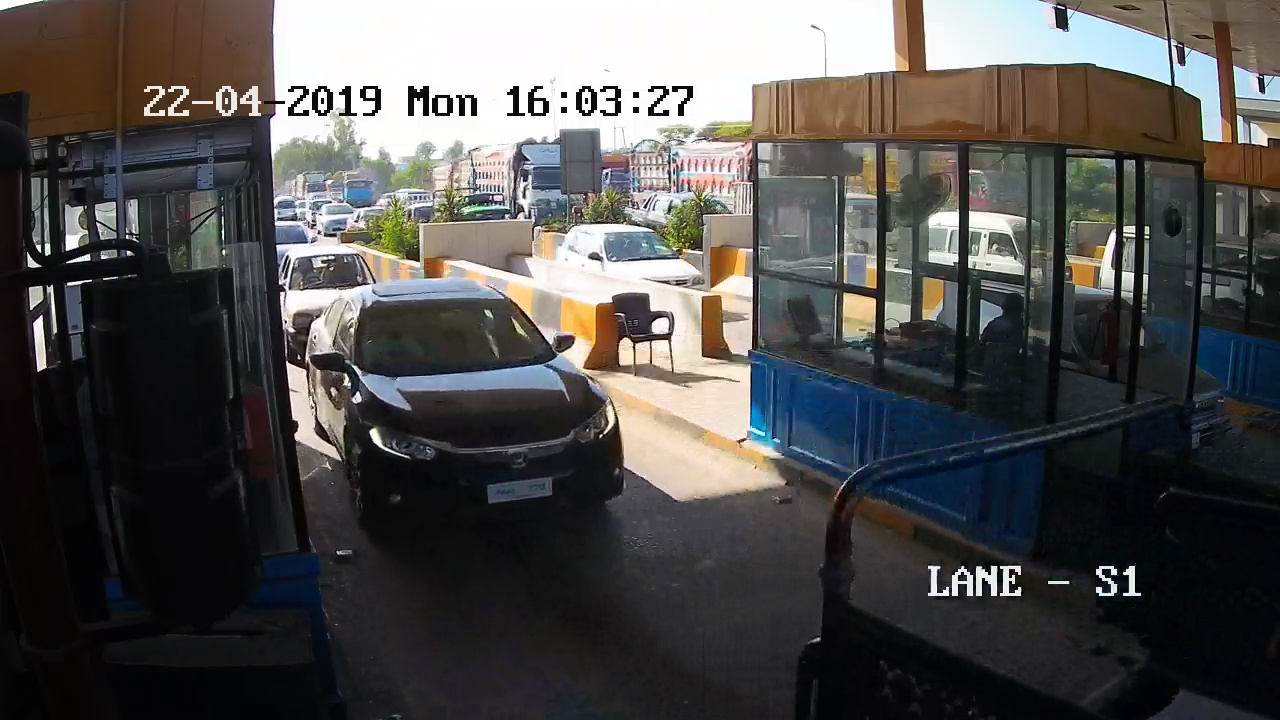Number Plate (Car): (484, 480, 556, 502)
